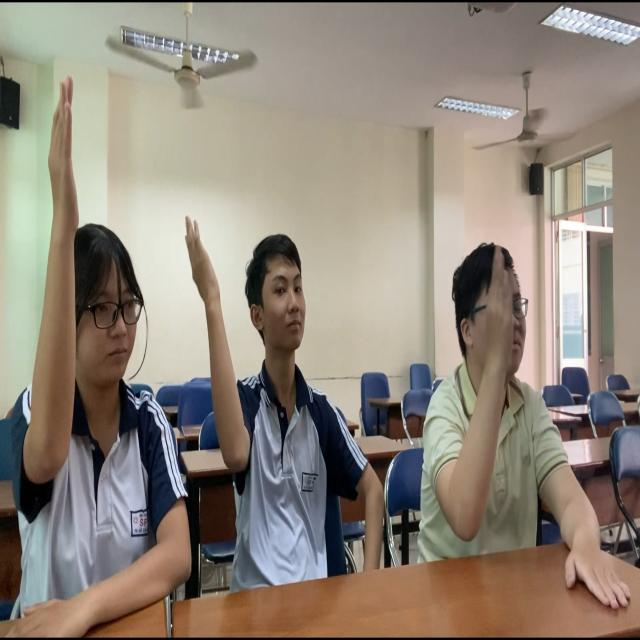raise_hand: (1, 83, 164, 638), (420, 229, 549, 600)
